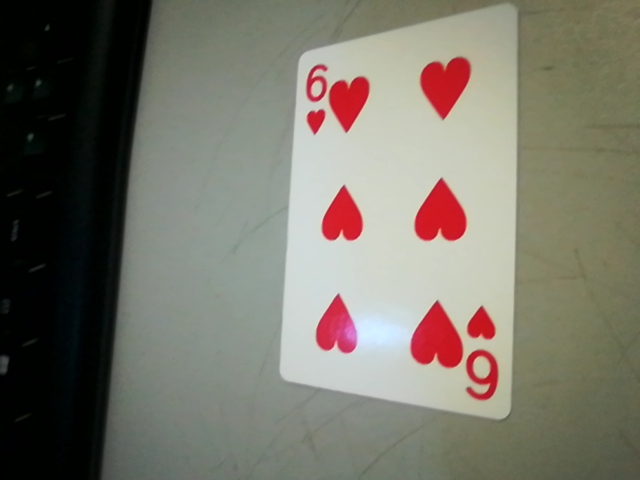hx 6: (458, 300, 510, 410)
